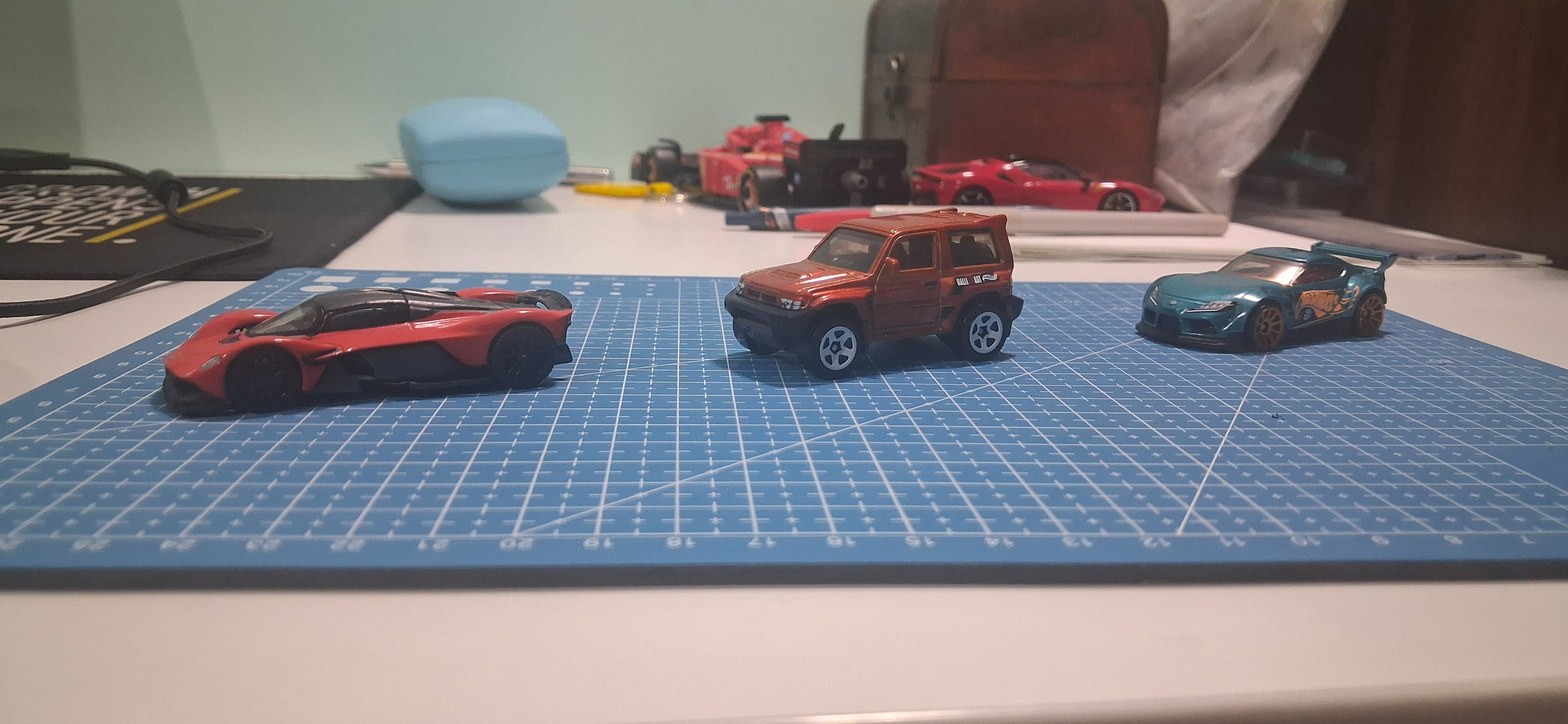Aston_Martin_Valkyrie: (133, 253, 577, 442)
Mitsubishi_Pajero_Evolution: (696, 196, 1023, 402)
Toyota_GR_Supra: (1112, 225, 1420, 380)
